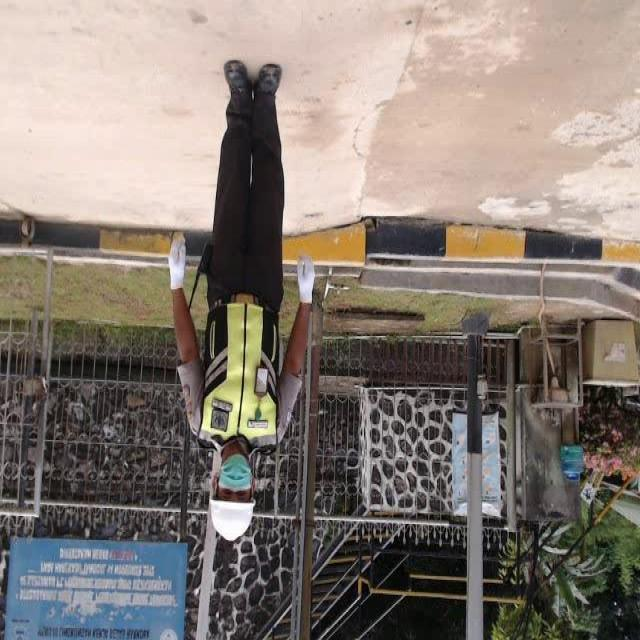gloves: (161, 230, 197, 292), (294, 252, 320, 304)
